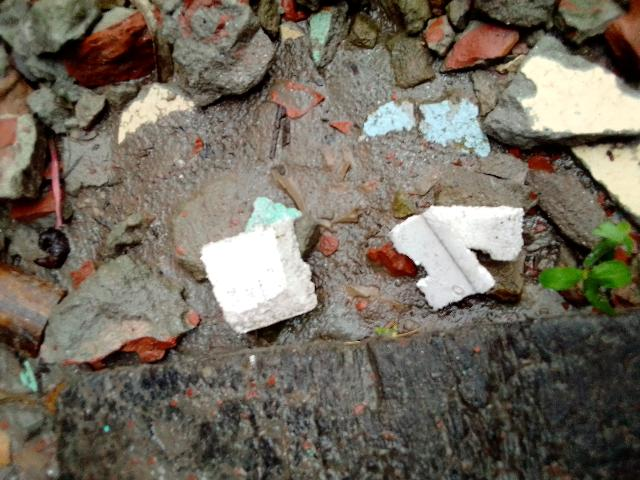cocksheet: (186, 185, 554, 343)
